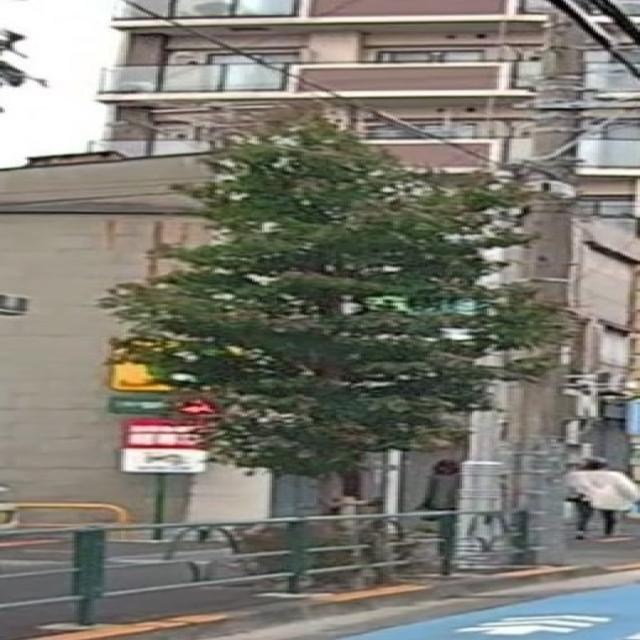maple: (97, 93, 590, 585)
